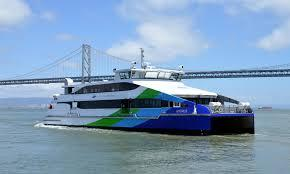Ship: (44, 50, 255, 135)
